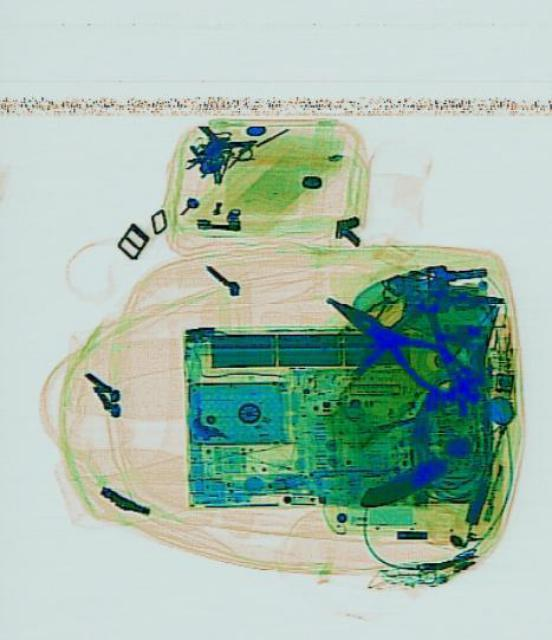Pliers: (315, 278, 472, 406)
